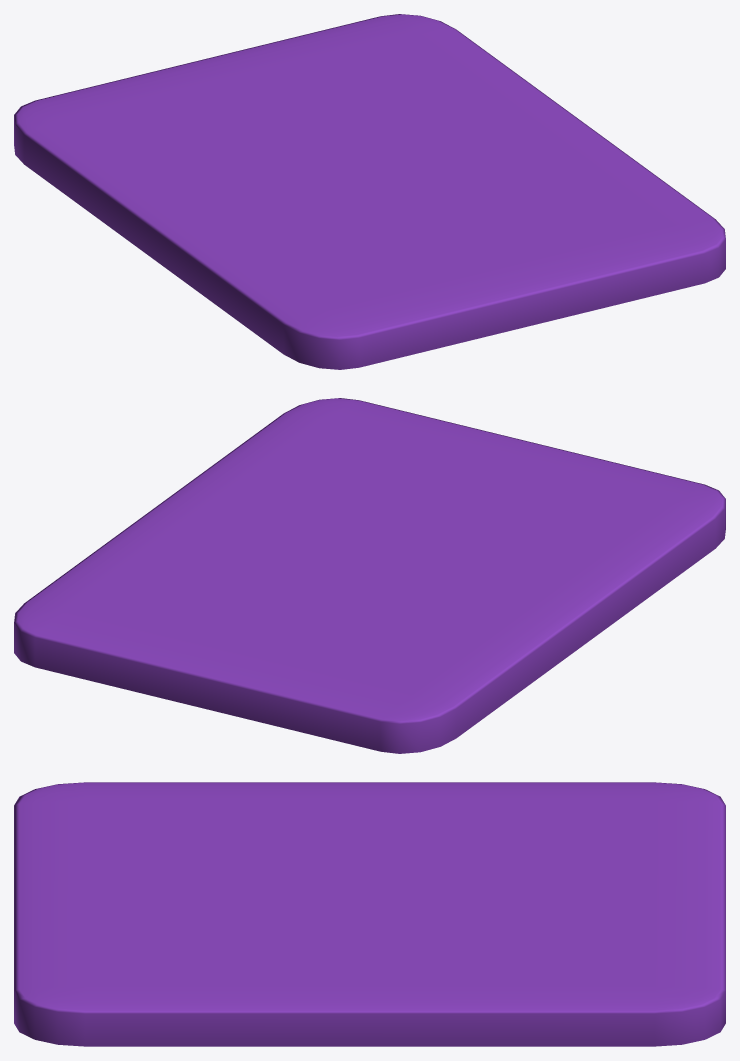
Rendered from Platform_DefaultTheme.fbx.
The picture shows the model from 3 angles, top to bottom: view 1: azimuth 30°, elevation 25°; view 2: azimuth 150°, elevation 25°; view 3: azimuth 270°, elevation 25°; orthographic projection. The views are drawn at different scales.
Visible parts, largest first — view 1: Platform; view 2: Platform; view 3: Platform.
Part boxes in pixels (left/top/right/bottom): Platform: left=14, top=14, right=725, bottom=369; Platform: left=14, top=398, right=725, bottom=753; Platform: left=14, top=782, right=725, bottom=1046.
Bounding box in the file's own units: 4.85 × 0.4 × 6.3.
